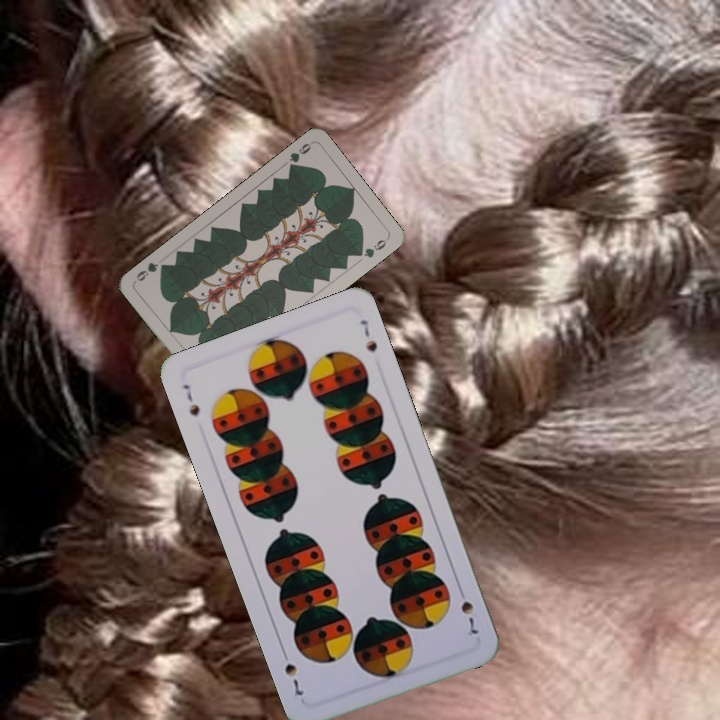G9: (285, 138, 314, 173)
S7: (454, 583, 481, 637), (178, 380, 203, 419)
